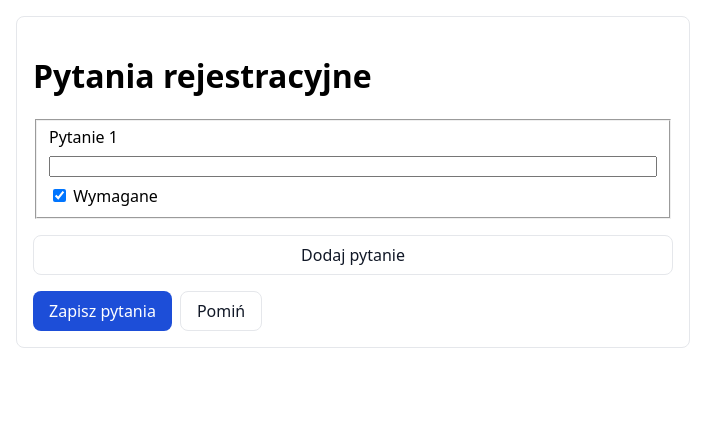
Test: RegistrationQuestionsSetupPage › shows a specific error when registration questions are locked
The width and height of the screenshot is (707, 421).
Type "Jakie masz doświadczenie?" into the field labelled "Pytanie 1" at (353, 167), box x1=49 y1=156 x2=657 y2=178
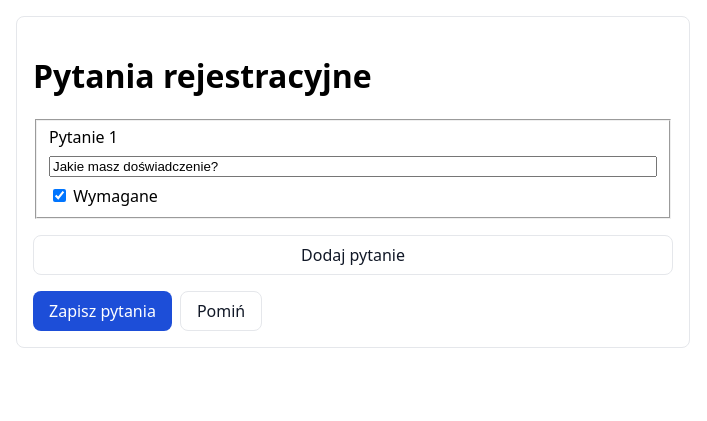
Click the button "Zapisz pytania" at (102, 312), box x1=33 y1=292 x2=172 y2=332
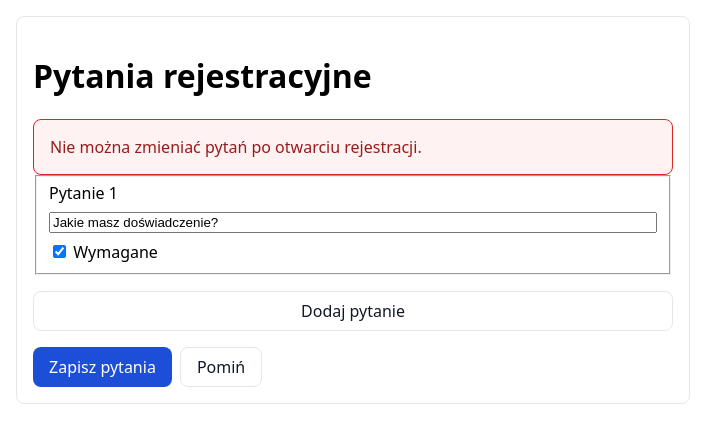
Result: the message reads "Nie można zmieniać pytań po otwarciu rejestracji." at x1=50 y1=136 x2=422 y2=158
